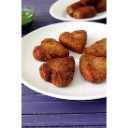cutlet: (78, 53, 108, 82), (41, 58, 73, 84), (32, 37, 69, 59), (60, 31, 86, 51)
